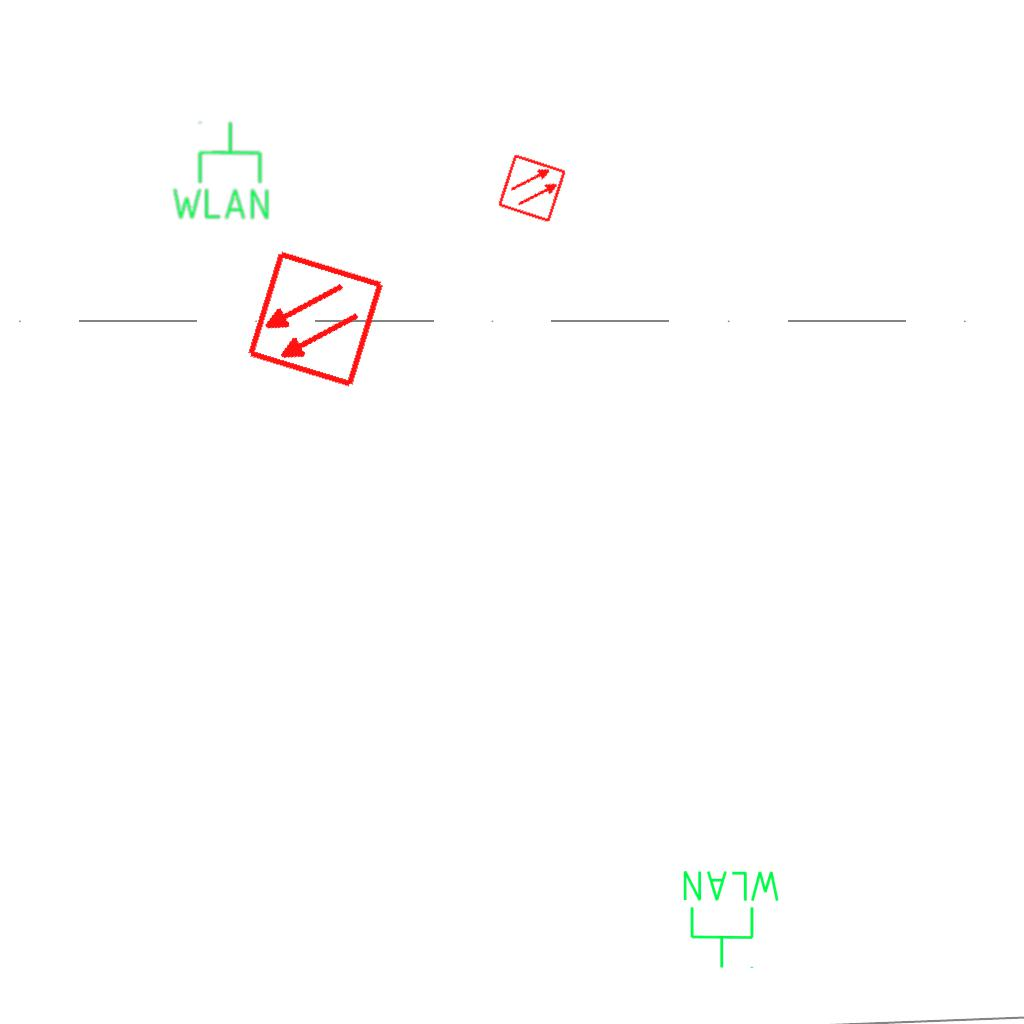RMO_Rauchmelder_optischer: (244, 248, 387, 391), (496, 152, 568, 224)
WLAN: (679, 867, 784, 971), (168, 119, 273, 223)
